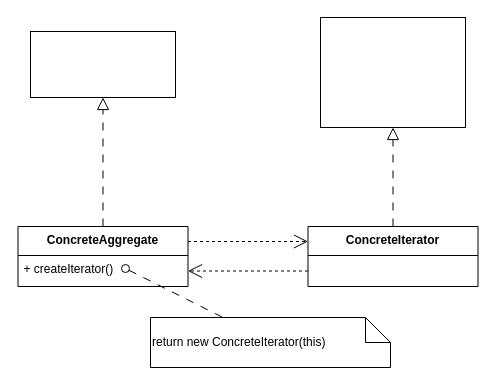
This 495x385 diagram has some shape labels left out. The centre of each missing label's shape, as x and y in pixels:
<<Interface>> Aggregate + createIterator(): [103,64]
<<Interface>> Iterator + first() + next() + isDone() + currentItem();: [393,72]
